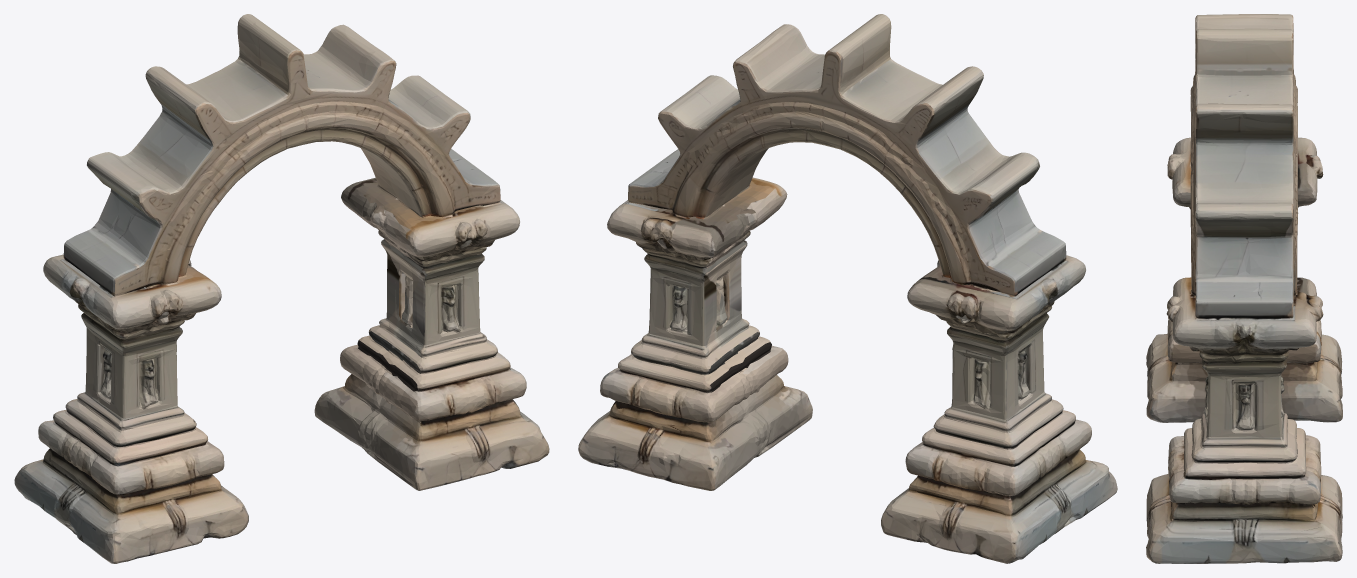
Rendered from scalloped-palace-interior-arch-optimized.glb.
The picture shows the model from 3 angles, left to right: view 1: azimuth 30°, elevation 25°; view 2: azimuth 150°, elevation 25°; view 3: azimuth 270°, elevation 25°; orthographic projection. The views are drawn at different scales.
Visible parts, largest first — view 1: 7d80a6bf-1d3e-4bde-98f4-ee50ecf0a133_texturing.obj; view 2: 7d80a6bf-1d3e-4bde-98f4-ee50ecf0a133_texturing.obj; view 3: 7d80a6bf-1d3e-4bde-98f4-ee50ecf0a133_texturing.obj.
Part boxes in pixels (x1,y1,x2,y2): 7d80a6bf-1d3e-4bde-98f4-ee50ecf0a133_texturing.obj: (14, 14, 549, 563); 7d80a6bf-1d3e-4bde-98f4-ee50ecf0a133_texturing.obj: (578, 14, 1117, 563); 7d80a6bf-1d3e-4bde-98f4-ee50ecf0a133_texturing.obj: (1146, 14, 1342, 563).
Bounding box in the file's own units: 3.5 × 3.4 × 1.42.
1 material, 1 textured.
